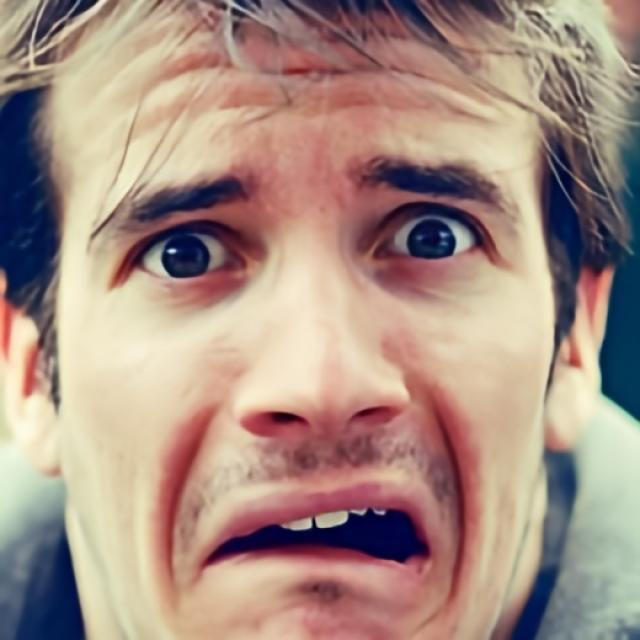fear: (60, 1, 555, 640)
